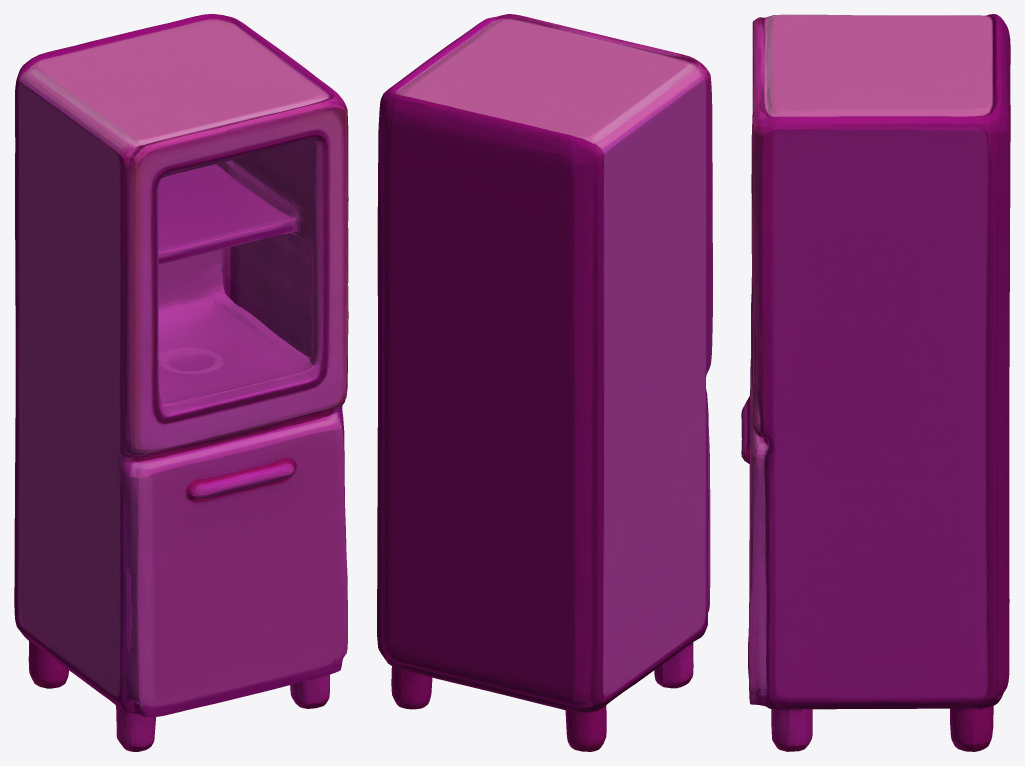
3 views of the same model, side by side, from view 1: azimuth 30°, elevation 25°; view 2: azimuth 150°, elevation 25°; view 3: azimuth 270°, elevation 25° (orthographic). The views are drawn at different scales.
Parts seen in each view (by area): view 1: world; view 2: world; view 3: world.
Boxes of the visible parts, x1,y1,x2,y2 form: world: (14,14,348,751); world: (377,14,712,751); world: (741,14,1010,751).
Size of the model in its own units: 37.79 by 99.96 by 38.01.
Materials: 1 (1 with a texture image).
